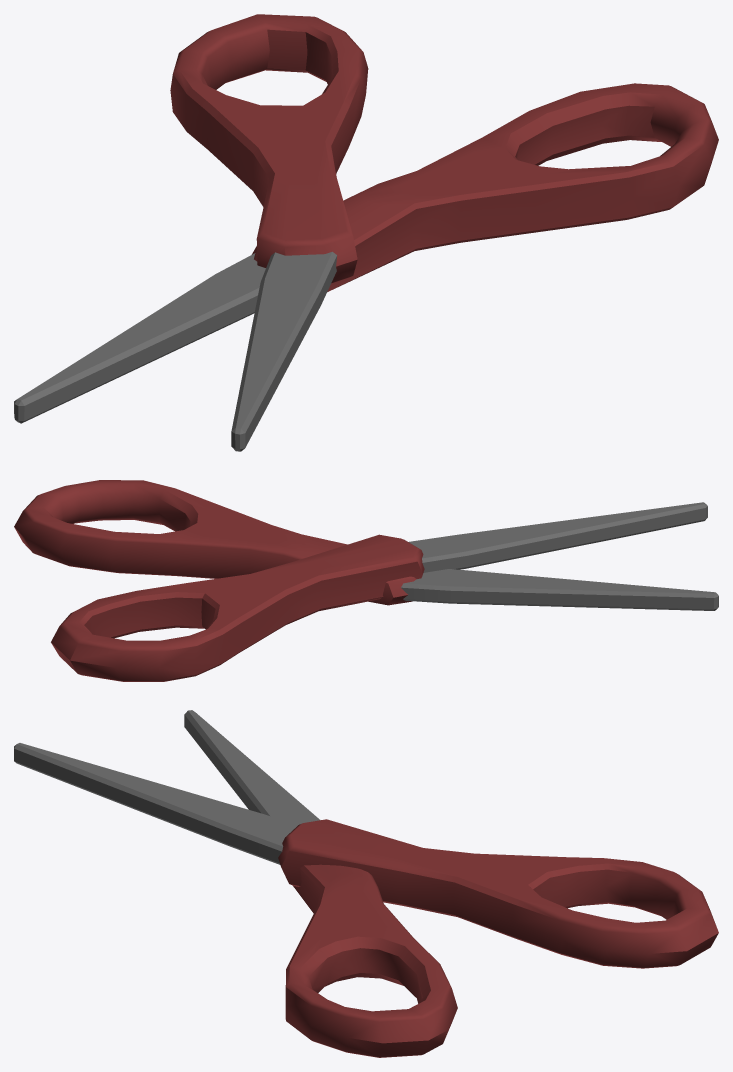
File: SM_Scissors.fbx
The picture shows the model from 3 angles, top to bottom: view 1: azimuth 30°, elevation 25°; view 2: azimuth 150°, elevation 25°; view 3: azimuth 270°, elevation 25°; orthographic projection. The views are drawn at different scales.
Visible parts, largest first — view 1: SM_Scissors; view 2: SM_Scissors; view 3: SM_Scissors.
Part boxes in pixels (x1,y1,x2,y2): SM_Scissors: (14, 14, 718, 451); SM_Scissors: (14, 480, 718, 681); SM_Scissors: (14, 710, 718, 1057).
Size of the model in its own units: 60.97 by 4.21 by 54.56.
